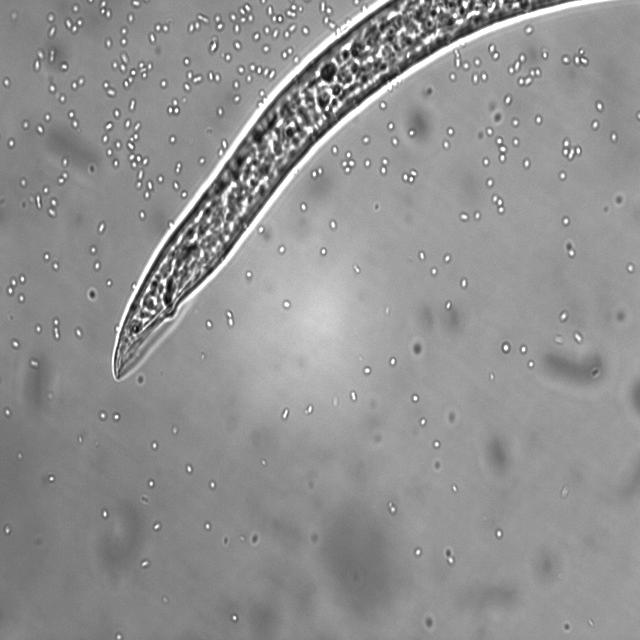Pratylenchus: (97, 0, 628, 387)
